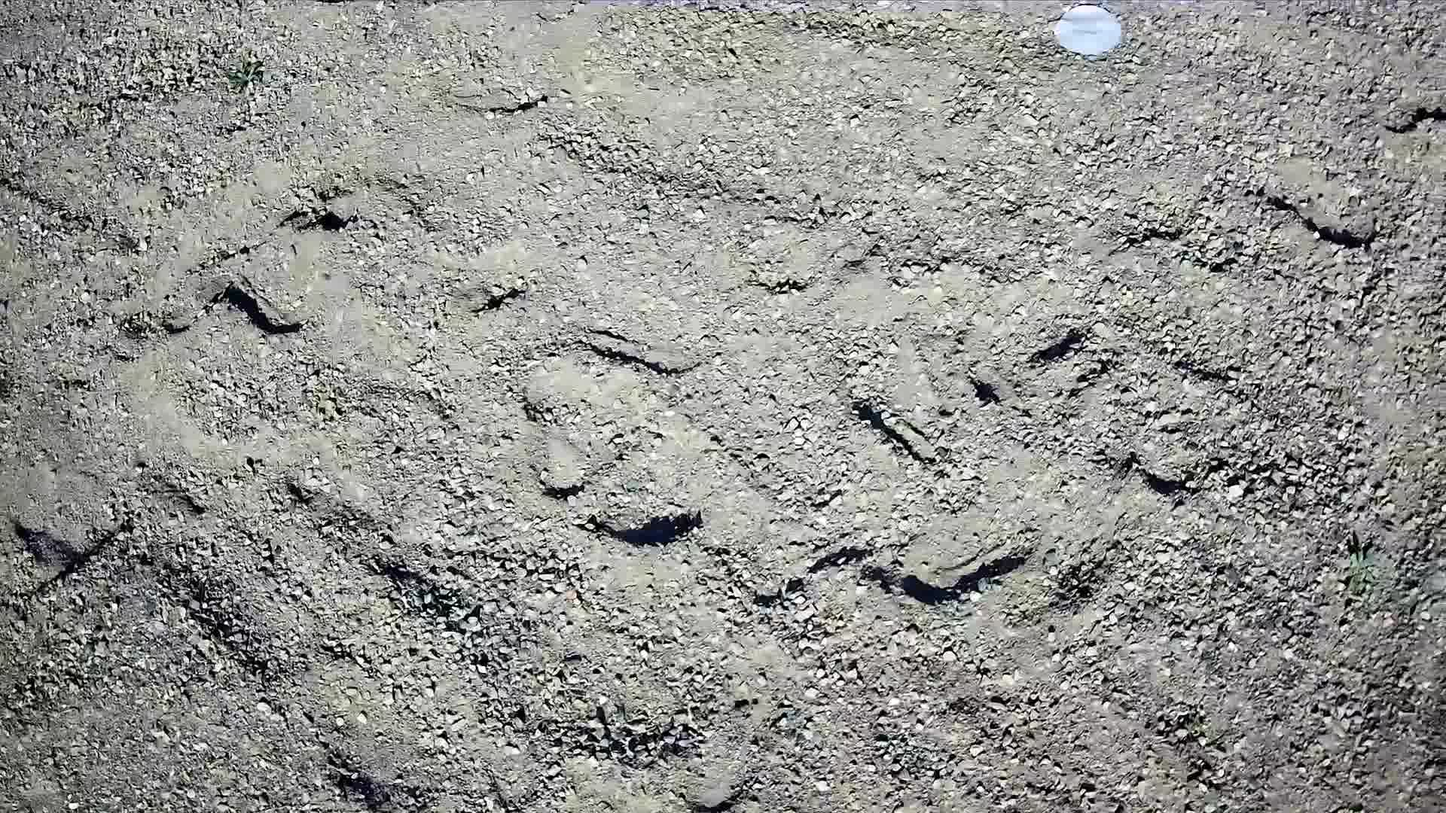Target: (1052, 7, 1124, 54)
